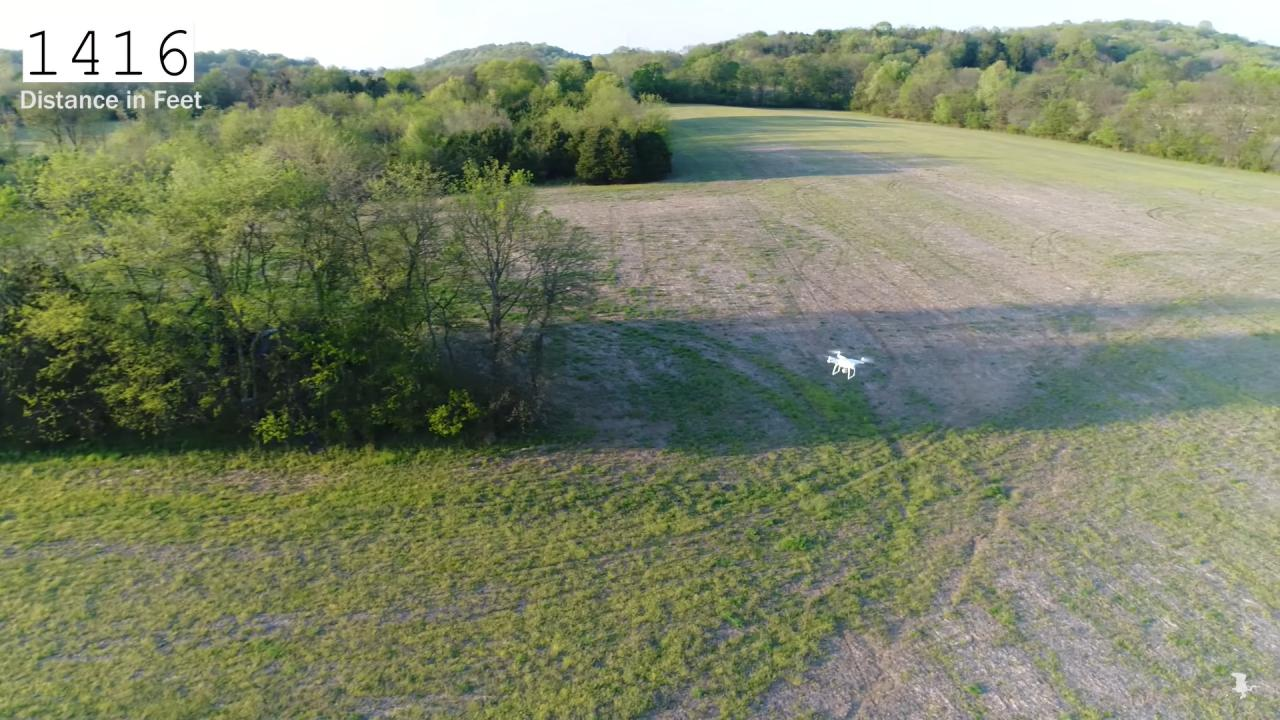Drone: (816, 339, 880, 389)
